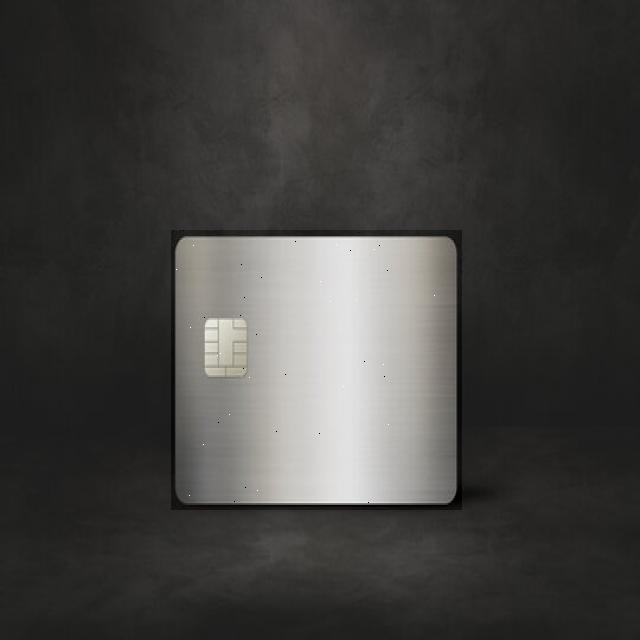payment_card: (170, 228, 461, 508)
